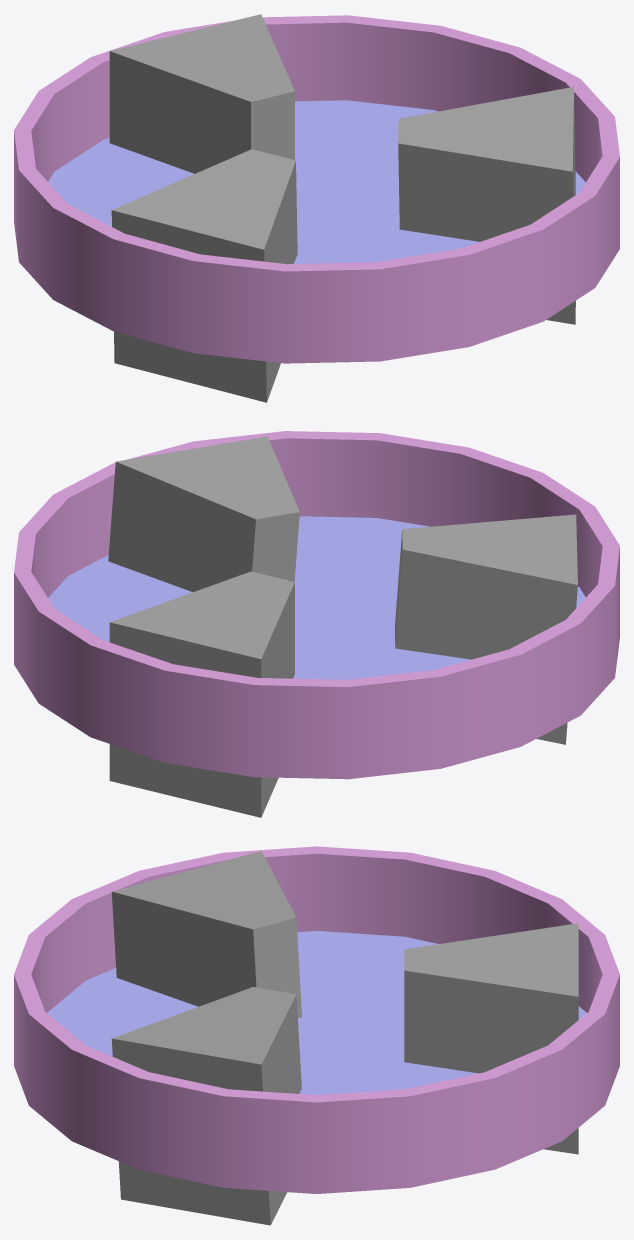
File: HVArena5.fbx
3 renders of one model, top to bottom at view 1: azimuth 30°, elevation 25°; view 2: azimuth 150°, elevation 25°; view 3: azimuth 270°, elevation 25°, orthographic.
Visible parts, largest first — view 1: polySurface1, pCylinder2, pCube2, pCube3, pCube4; view 2: polySurface1, pCylinder2, pCube3, pCube4, pCube2; view 3: polySurface1, pCylinder2, pCube4, pCube2, pCube3.
Boxes of the visible parts, x1,y1,x2,y2 form: polySurface1: (14,15,619,363); pCylinder2: (48,100,585,263); pCube2: (109,14,294,173); pCube3: (398,87,575,324); pCube4: (111,149,297,402); polySurface1: (14,431,619,779); pCylinder2: (48,516,585,679); pCube3: (108,436,299,591); pCube4: (394,514,577,744); pCube2: (109,571,294,817); polySurface1: (14,846,619,1193); pCylinder2: (47,931,586,1095); pCube4: (111,851,301,1018); pCube2: (404,923,578,1154); pCube3: (111,987,301,1225).
Size of the model in its own units: 19.45 by 6.07 by 19.45.
